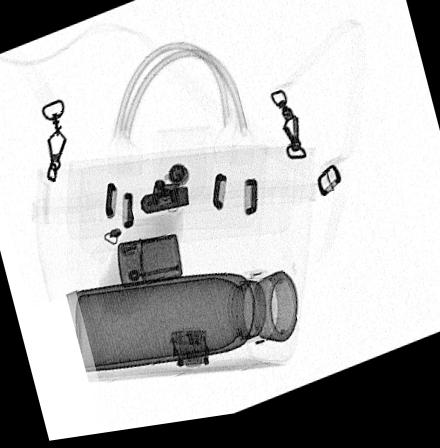Lighter: (116, 237, 183, 291)
